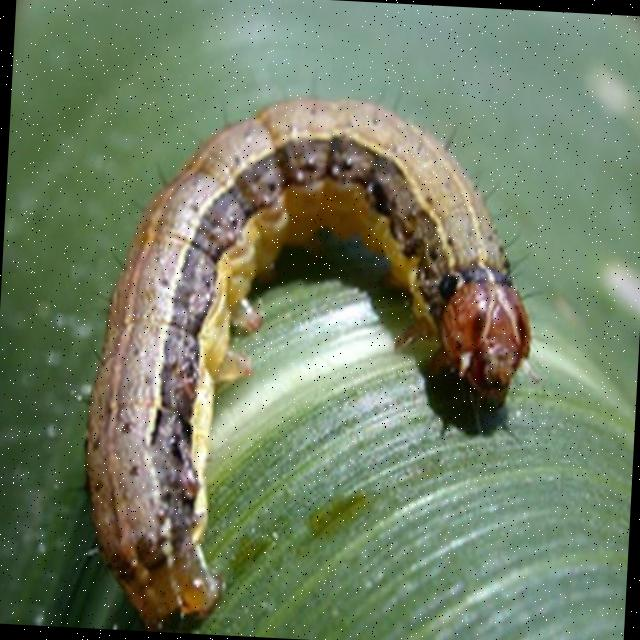worm: (72, 79, 554, 640)
